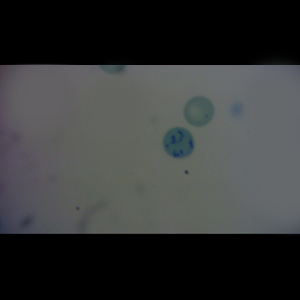aggregate reticulocyte: (162, 126, 196, 159)
punctate reticulocyte: (183, 96, 216, 128)
